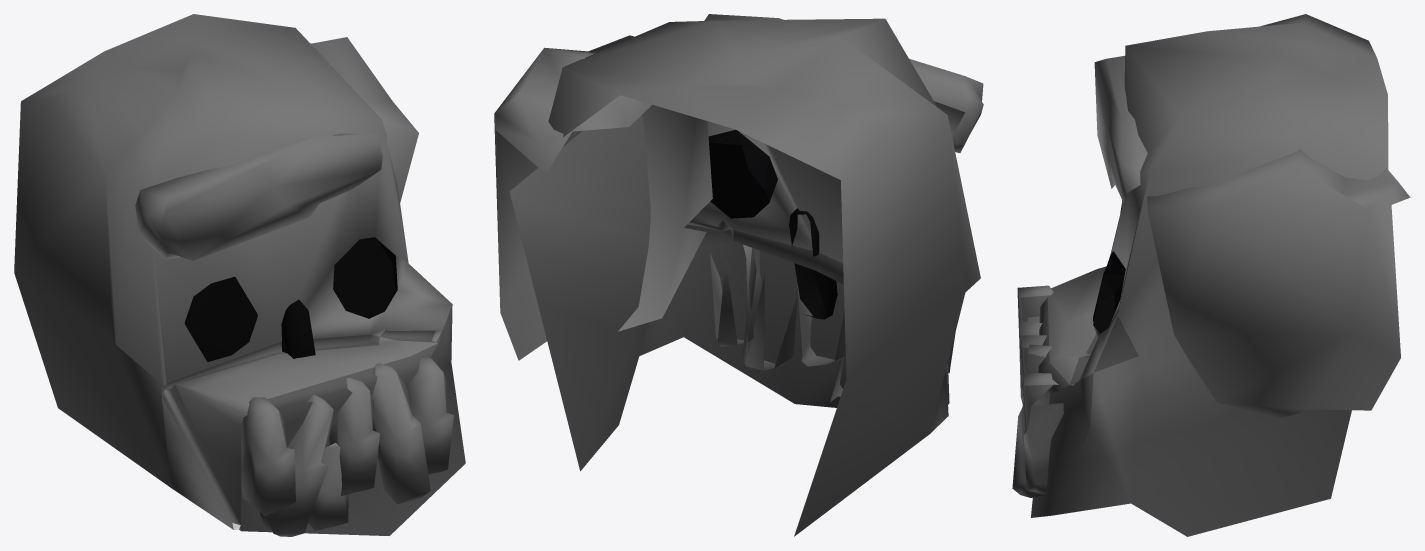
Rendered from CaveiraRocha.glb.
3 renders of one model, left to right at view 1: azimuth 30°, elevation 25°; view 2: azimuth 150°, elevation 25°; view 3: azimuth 270°, elevation 25°, orthographic. The views are drawn at different scales.
Visible parts, largest first — view 1: CaveiraRocha; view 2: CaveiraRocha; view 3: CaveiraRocha.
Part boxes in pixels (box(x1,y1,x2,y2)): CaveiraRocha: box(14, 14, 465, 536); CaveiraRocha: box(494, 14, 983, 536); CaveiraRocha: box(1012, 14, 1410, 536).
Size of the model in its own units: 10.84 by 13.56 by 11.56.
1 material, 1 textured.
